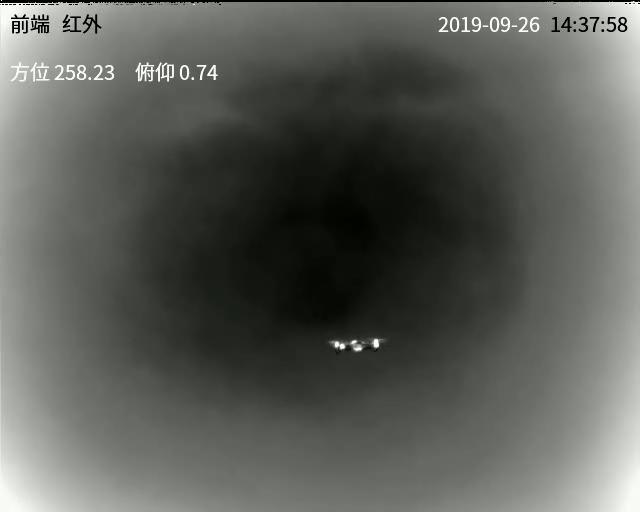uav: (326, 332, 385, 355)
